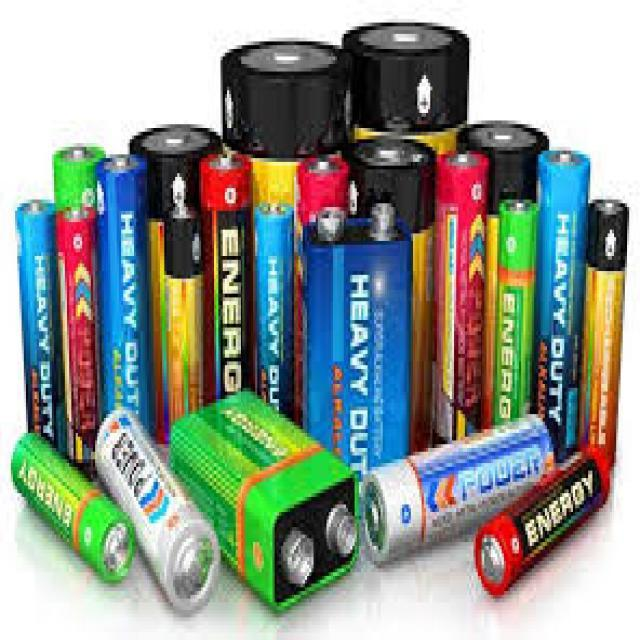battery: (168, 390, 360, 618), (300, 202, 414, 524), (127, 124, 224, 454), (453, 116, 549, 432), (363, 416, 554, 566), (350, 138, 438, 458), (94, 404, 221, 618), (476, 440, 612, 600), (12, 434, 138, 588), (52, 136, 107, 472), (91, 154, 154, 443), (537, 144, 590, 466), (578, 191, 630, 474), (436, 150, 484, 454), (200, 148, 256, 401), (16, 196, 65, 452), (254, 202, 297, 434), (498, 194, 540, 423), (164, 204, 202, 439)
